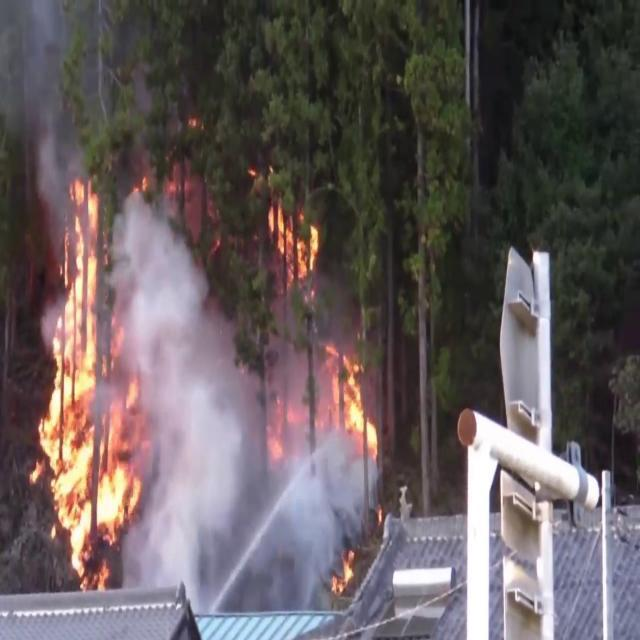Fire: (26, 162, 148, 580), (323, 335, 381, 462), (259, 183, 323, 296)
Smoke: (106, 178, 264, 621), (240, 360, 374, 584)
